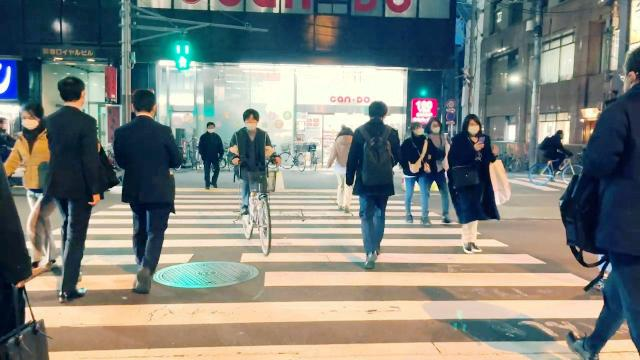berjalan: (562, 43, 640, 360), (40, 67, 108, 305), (112, 88, 186, 296), (344, 100, 402, 264), (448, 110, 507, 258)
